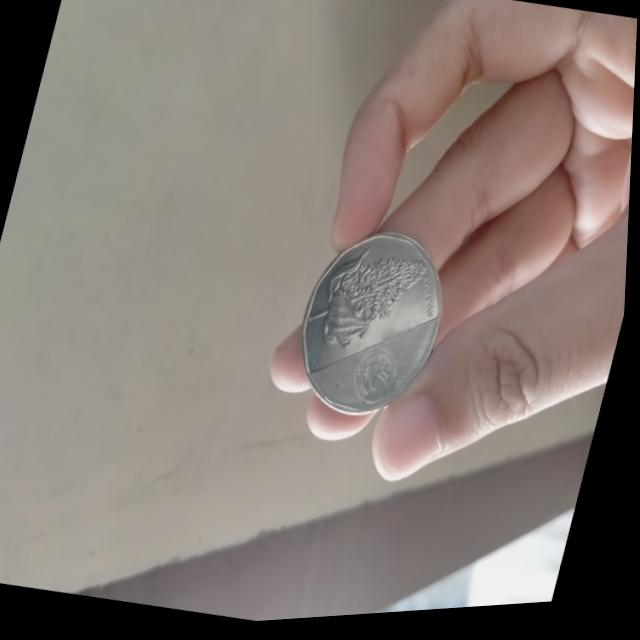10_New_Back: (291, 229, 437, 367)
